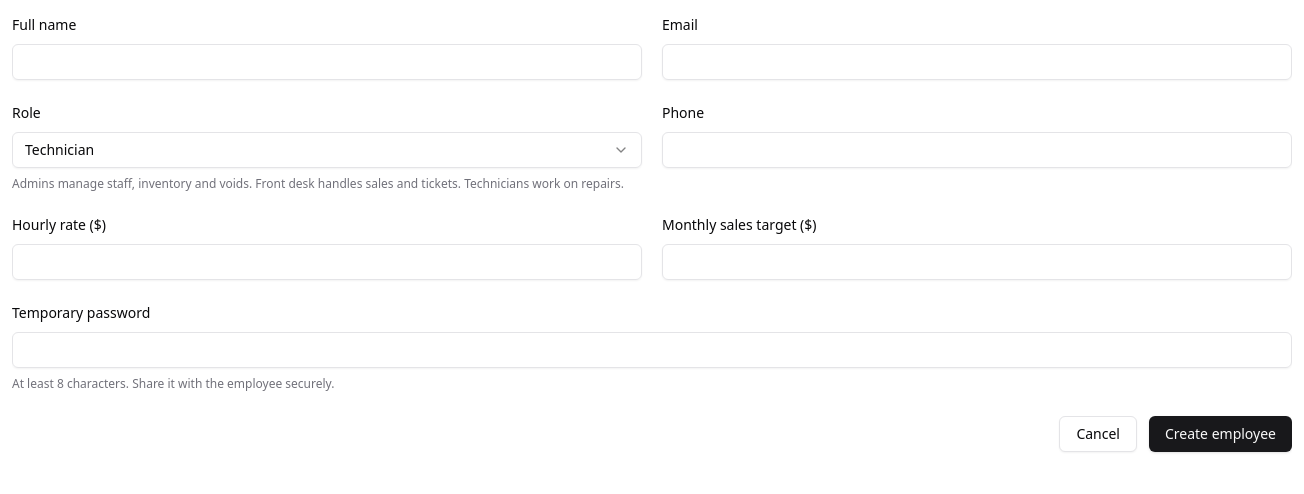
EmployeeForm › requires an 8+ character password when creating
Type "Sam" into the field labelled "Full name" at (327, 62), box left=12, top=44, right=642, bottom=80
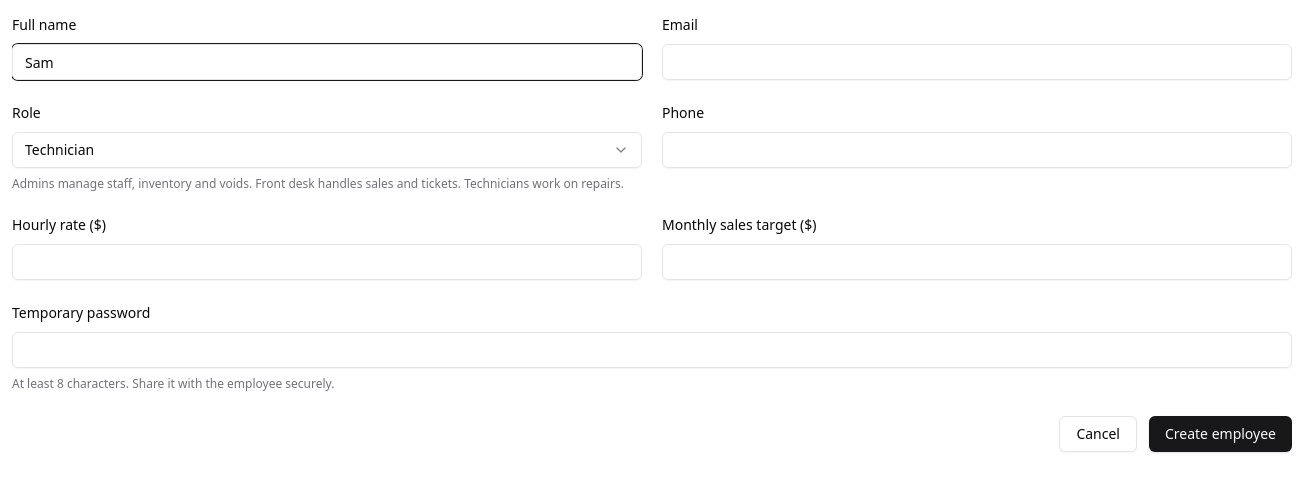
Type "sam@shop.com" into the field labelled "Email" at (977, 62), box left=662, top=44, right=1292, bottom=80
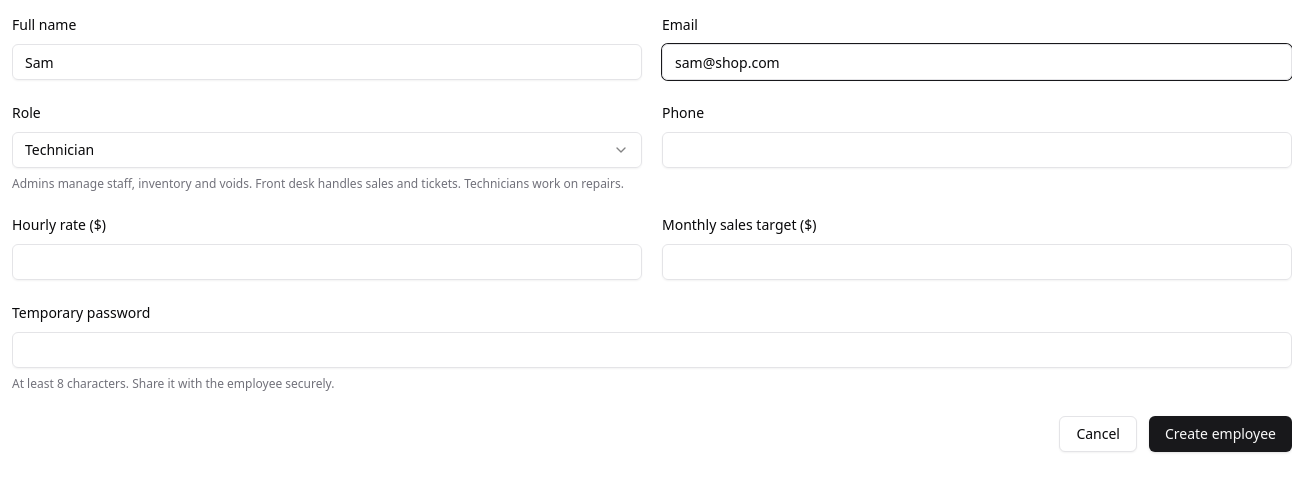
Type "short" into the password field labelled "Temporary password" at (652, 350), box left=12, top=332, right=1292, bottom=368
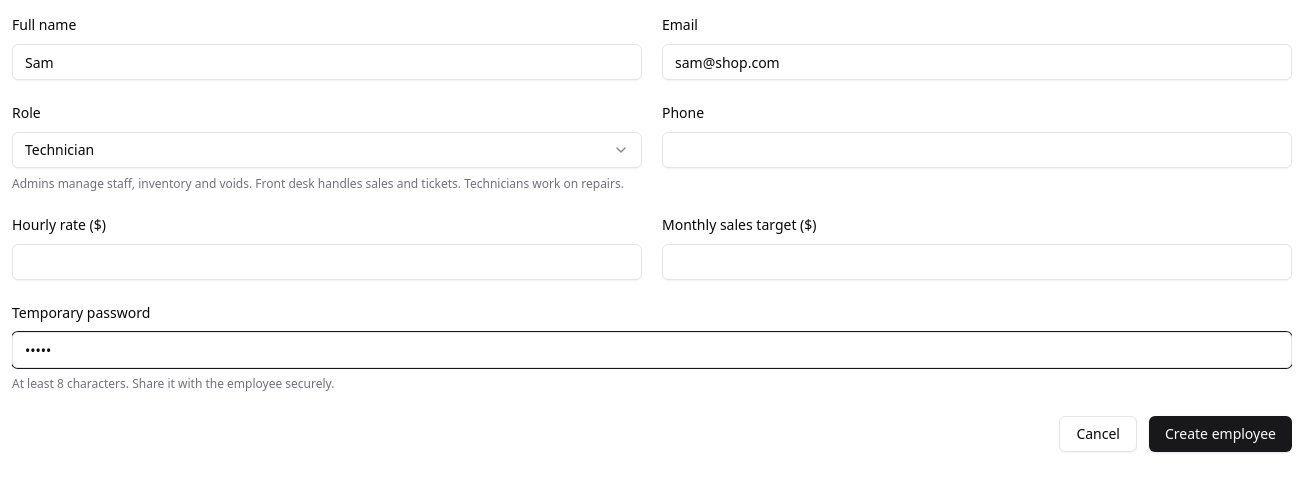
Click the button "Create employee" at (1220, 434), box left=1149, top=416, right=1292, bottom=452
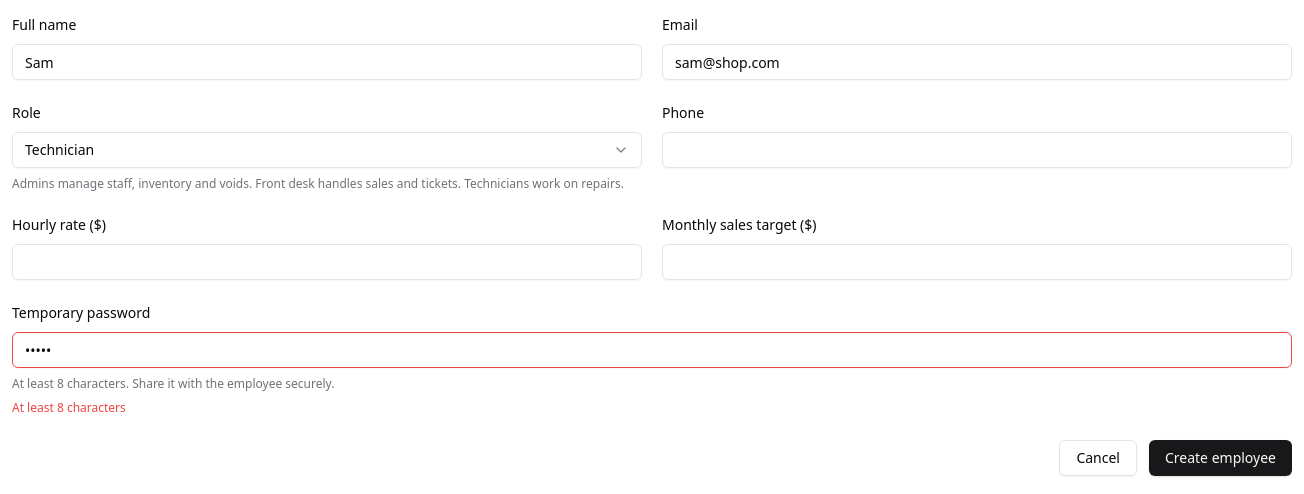
Check: the text "At least 8 characters" is shown, box left=12, top=399, right=126, bottom=416
